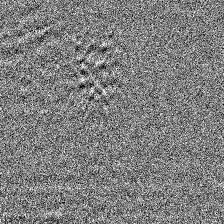cavities: (74, 34, 123, 115)
